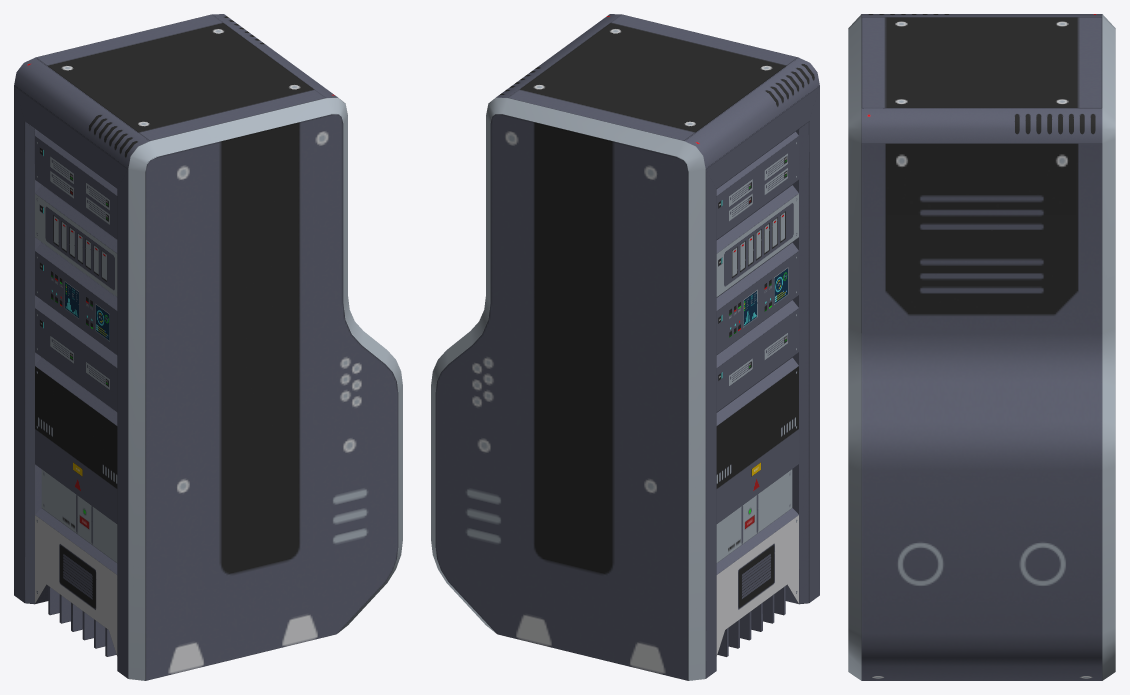
The model's file is Computer_Server_03.FBX.
3 renders of one model, left to right at view 1: azimuth 30°, elevation 25°; view 2: azimuth 150°, elevation 25°; view 3: azimuth 270°, elevation 25°, orthographic. The views are drawn at different scales.
Parts seen in each view (by area): view 1: Computer_Server_03; view 2: Computer_Server_03; view 3: Computer_Server_03.
Part boxes in pixels (x1,y1,x2,y2): Computer_Server_03: (14, 14, 402, 680); Computer_Server_03: (431, 14, 819, 680); Computer_Server_03: (848, 14, 1115, 680).
Bounding box in the file's own units: 1.25 × 2.32 × 1.
Materials: 3 (3 with a texture image).
